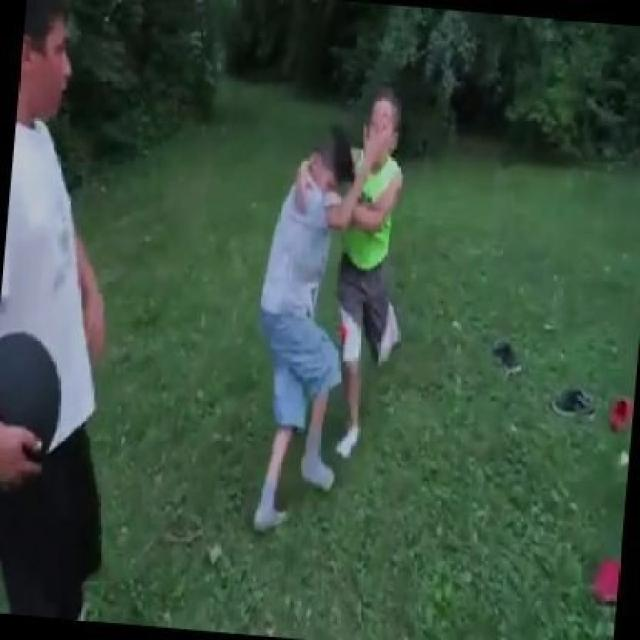fight: (243, 83, 416, 527)
non-fight: (0, 0, 120, 637)
